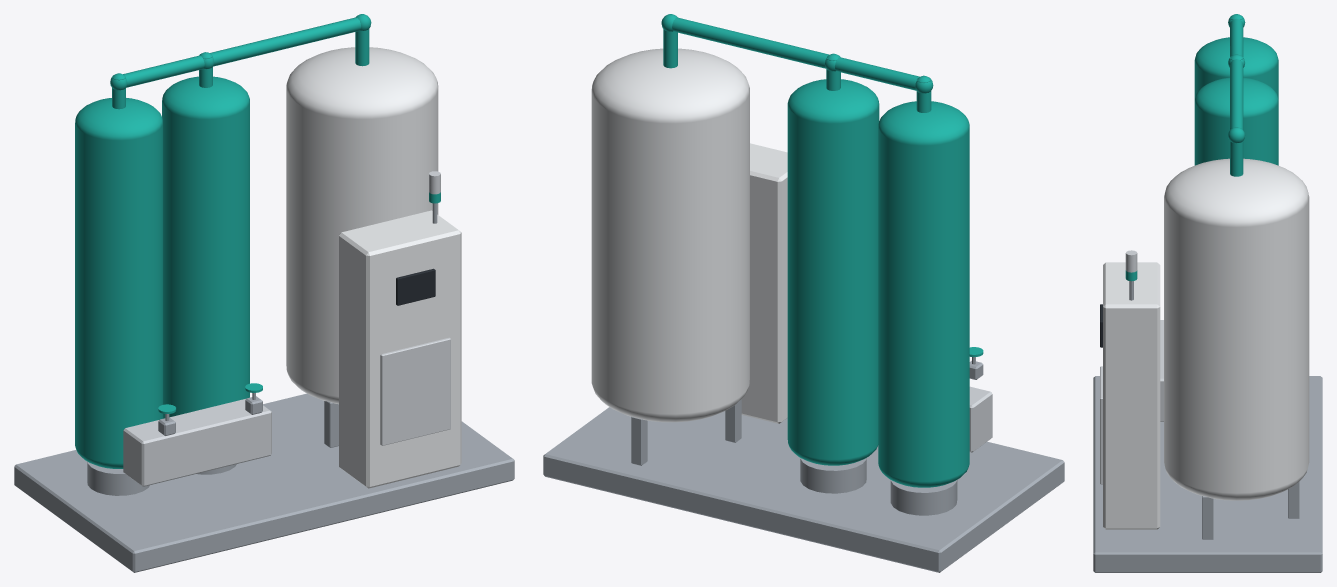
The model's file is nitrogen-generator.glb.
The picture shows the model from 3 angles, left to right: view 1: azimuth 30°, elevation 25°; view 2: azimuth 150°, elevation 25°; view 3: azimuth 270°, elevation 25°; orthographic projection. The views are drawn at different scales.
Visible parts, largest first — view 1: nitrogen-generator; view 2: nitrogen-generator; view 3: nitrogen-generator.
Boxes of the visible parts, x1,y1,x2,y2 form: nitrogen-generator: (14,14,514,572); nitrogen-generator: (543,14,1064,572); nitrogen-generator: (1093,14,1322,572).
Size of the model in its own units: 2.2 by 2.37 by 1.2.
